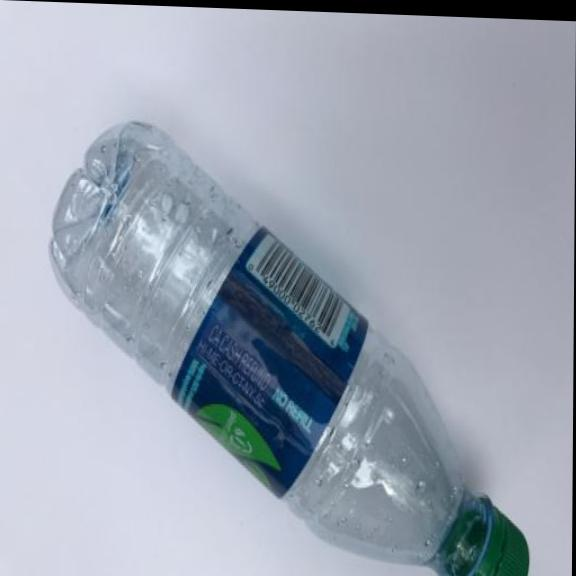Plastik: (38, 111, 534, 576)
